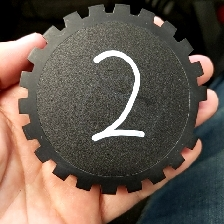gear: (16, 3, 208, 196)
missing: (183, 84, 208, 152)
